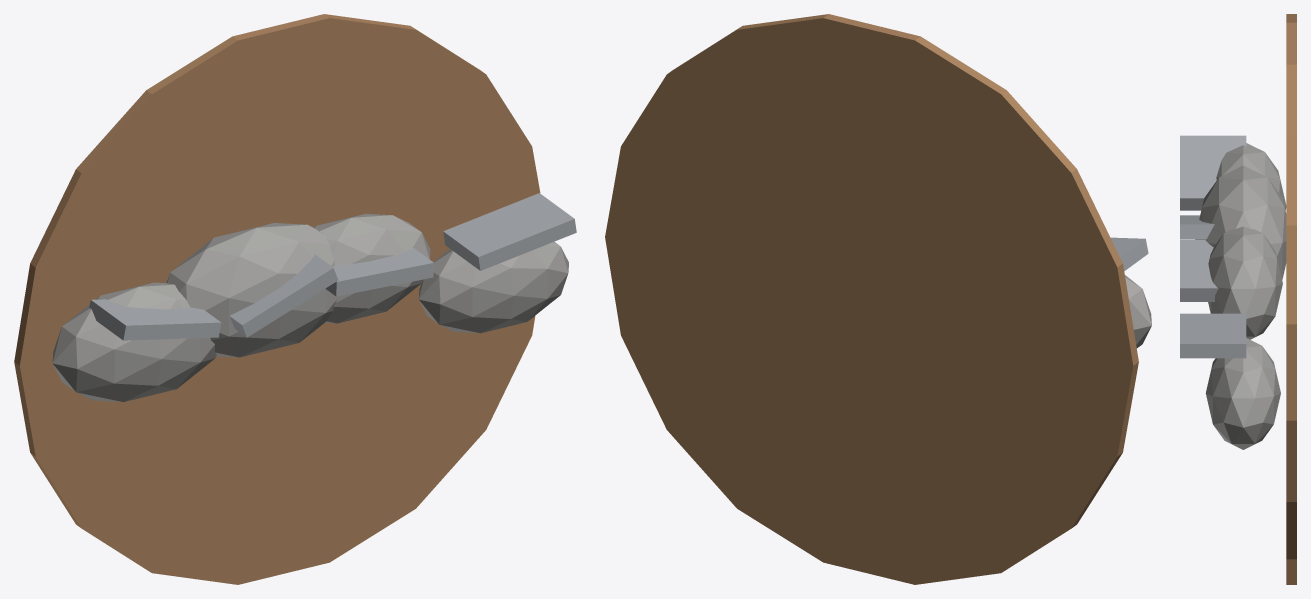
Rendered from 02_local_prop_cluster.glb.
The picture shows the model from 3 angles, left to right: view 1: azimuth 30°, elevation 25°; view 2: azimuth 150°, elevation 25°; view 3: azimuth 270°, elevation 25°; orthographic projection. The views are drawn at different scales.
Parts seen in each view (by area): view 1: scatter_base, scrap_rock_1, scrap_rock_0, scrap_rock_3, scrap_rock_2, scrap_plate_3, scrap_plate_0, scrap_plate_1, scrap_plate_2; view 2: scatter_base, scrap_rock_0, scrap_plate_0; view 3: scatter_base, scrap_rock_2, scrap_rock_3, scrap_rock_1, scrap_plate_3, scrap_plate_0, scrap_plate_2, scrap_rock_0, scrap_plate_1.
Boxes of the visible parts, x1,y1,x2,y2 form: scatter_base: (14, 14, 540, 584); scrap_rock_1: (166, 223, 337, 357); scrap_rock_0: (52, 282, 216, 401); scrap_rock_3: (418, 242, 568, 333); scrap_rock_2: (314, 213, 430, 323); scrap_plate_3: (443, 193, 576, 270); scrap_plate_0: (89, 299, 221, 340); scrap_plate_1: (229, 254, 338, 337); scrap_plate_2: (325, 248, 433, 296); scatter_base: (605, 14, 1138, 584); scrap_rock_0: (1125, 275, 1151, 348); scrap_plate_0: (1111, 237, 1148, 270); scatter_base: (1286, 14, 1296, 584); scrap_rock_2: (1208, 226, 1282, 339); scrap_rock_3: (1205, 338, 1280, 449); scrap_rock_1: (1195, 165, 1286, 279); scrap_plate_3: (1180, 313, 1246, 358); scrap_plate_0: (1180, 135, 1246, 210); scrap_plate_2: (1180, 239, 1218, 301); scrap_rock_0: (1216, 143, 1286, 209); scrap_plate_1: (1180, 215, 1214, 239).
Size of the model in its own units: 1.9 by 1.87 by 0.3875.
